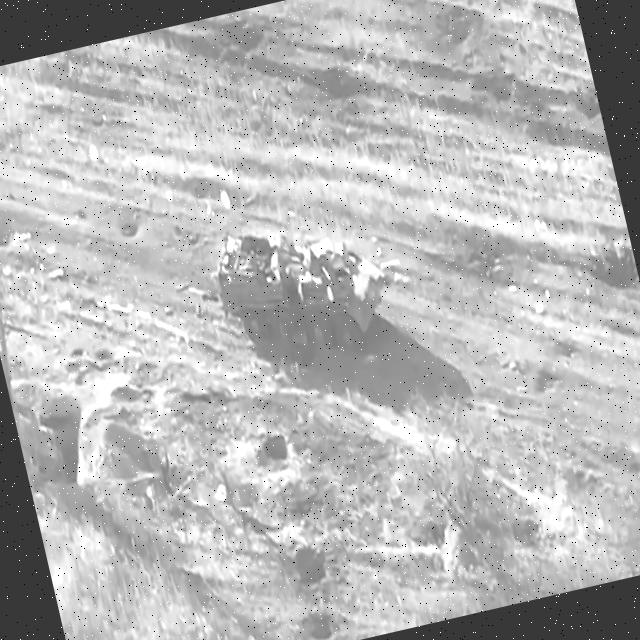APC: (208, 200, 403, 387)
